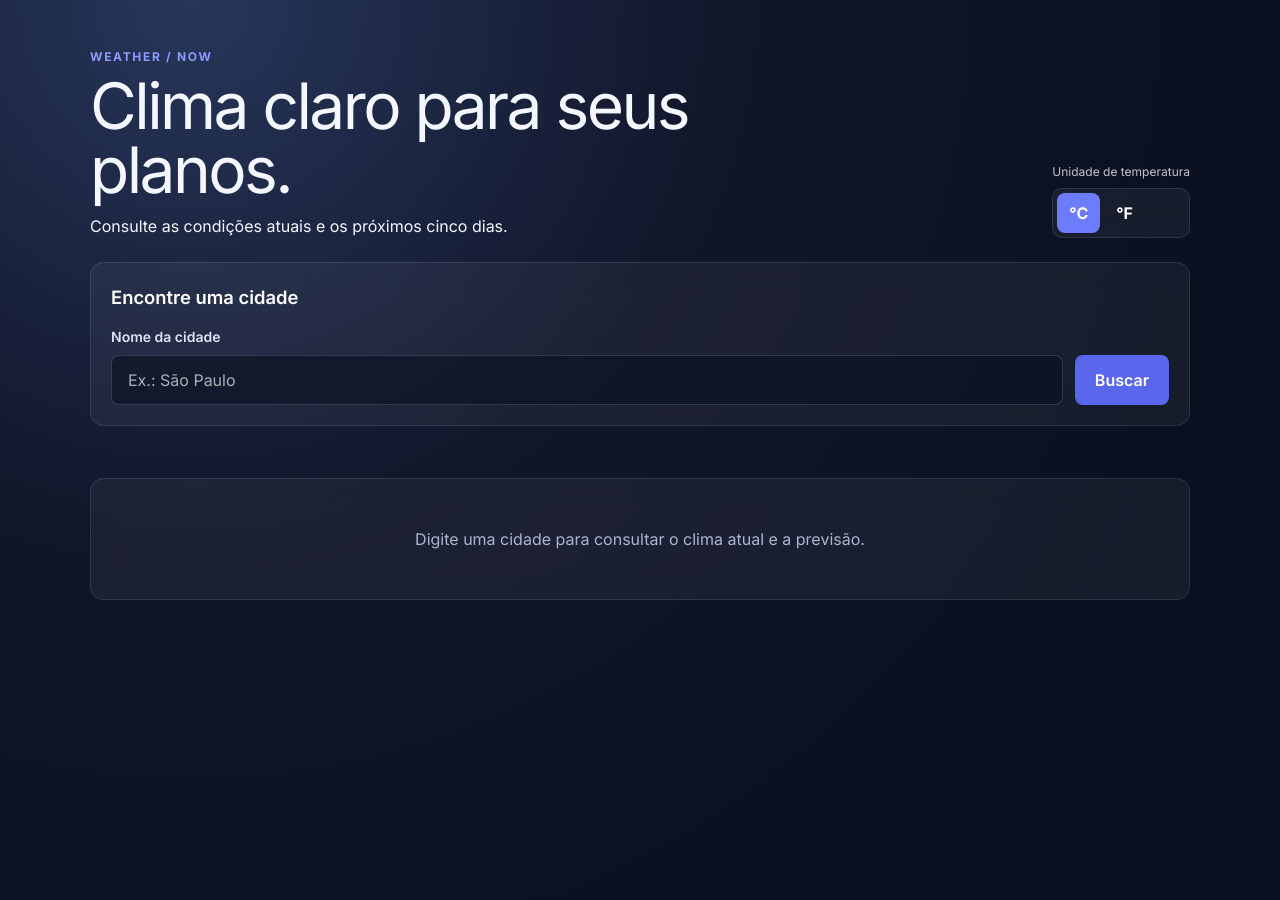
App › renders safe fallbacks when optional API weather fields are absent
The width and height of the screenshot is (1280, 900).
In the field labelled "Nome da cidade": (587, 380) 111,355 -> 1063,405, type "São Paulo"
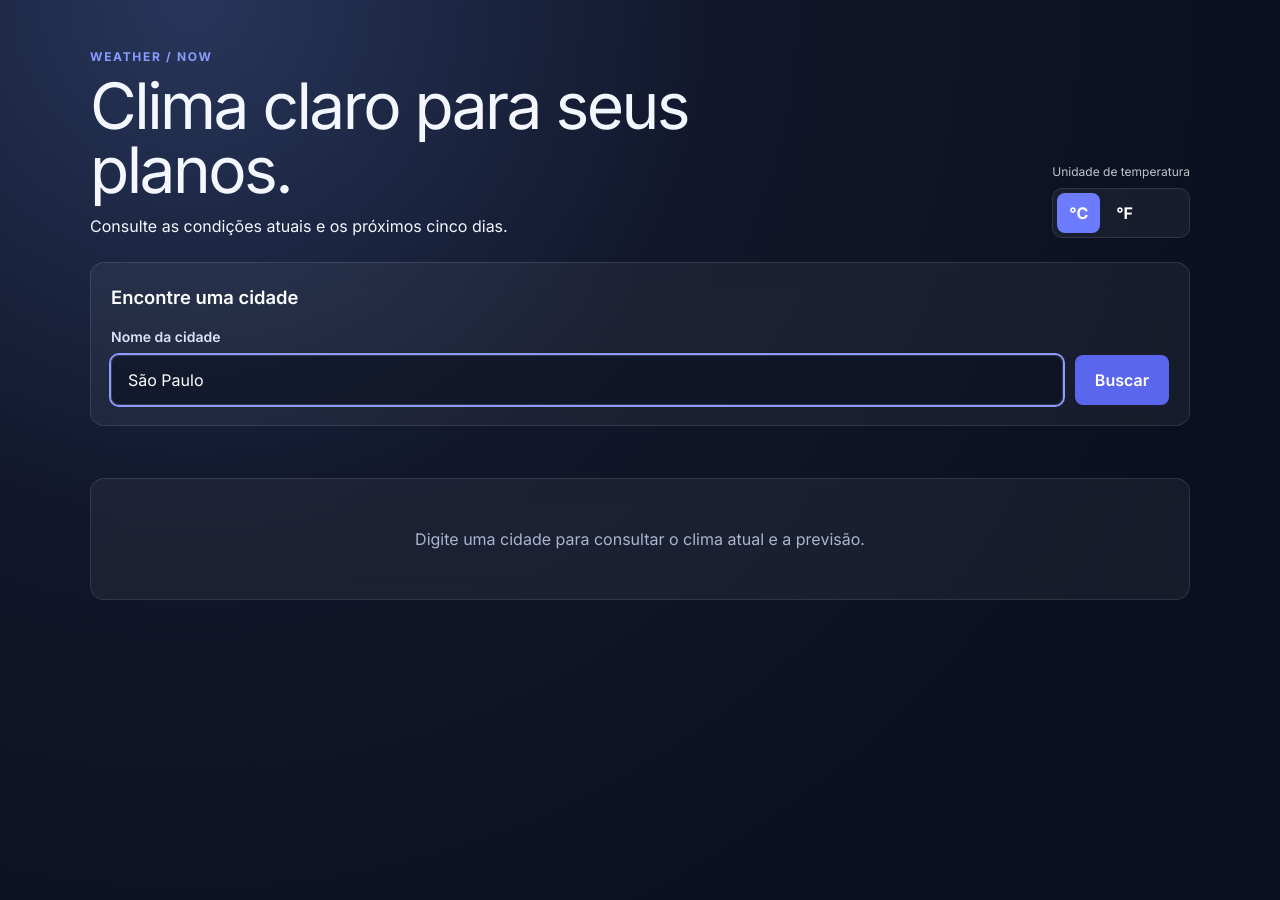
Click the button "Buscar": click(1122, 380) 1075,355 -> 1169,405
(page scrolled)
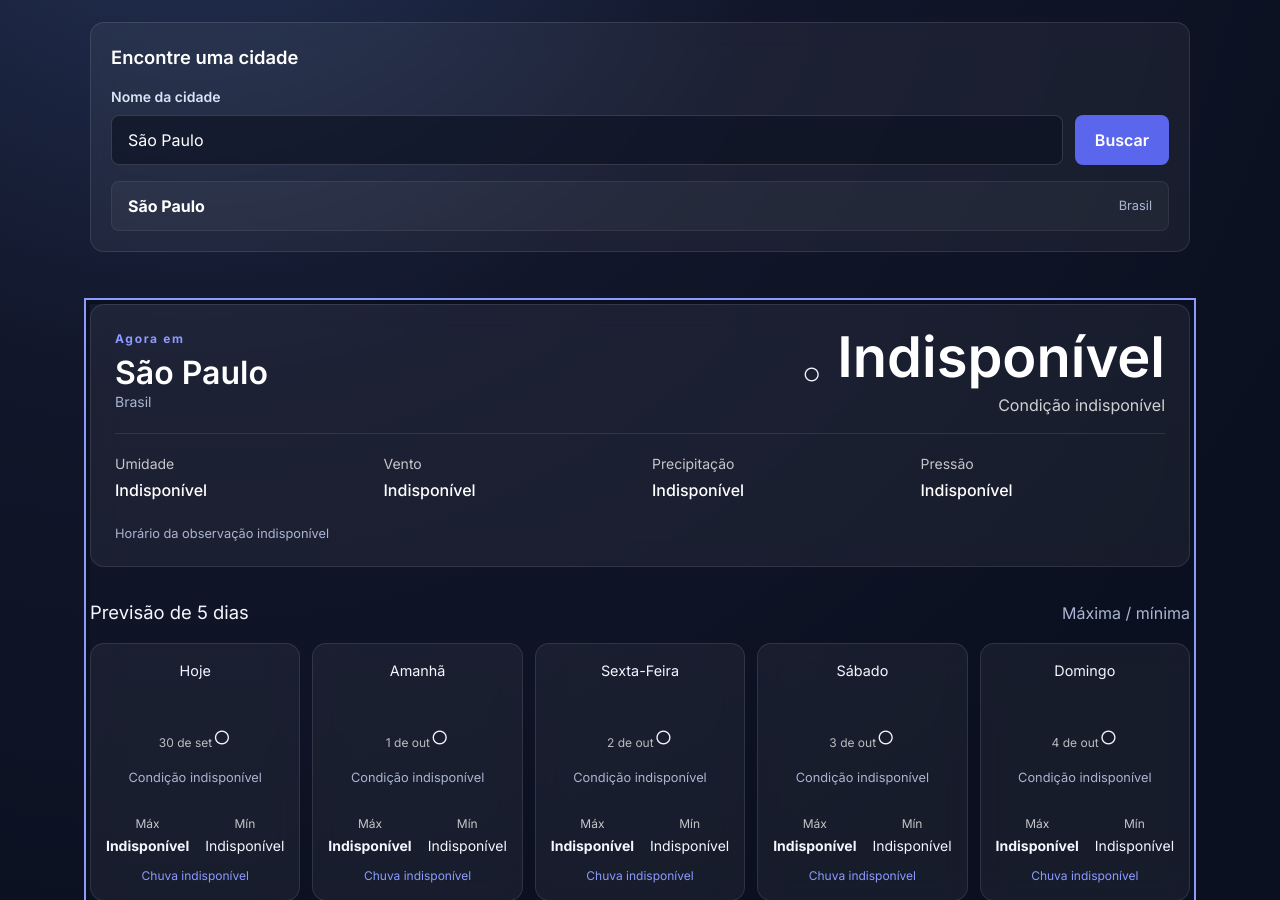
expect the heading "São Paulo" is shown: met, box 115,353 -> 268,392
expect the text "Horário da observação indisponível" is shown: met, box 115,526 -> 329,541
expect the text "Condição indisponível" is shown 6 times: met, box 998,395 -> 1165,415; 128,770 -> 262,785; 351,770 -> 484,785; 573,770 -> 707,785; 796,770 -> 929,785; 1018,770 -> 1152,785
